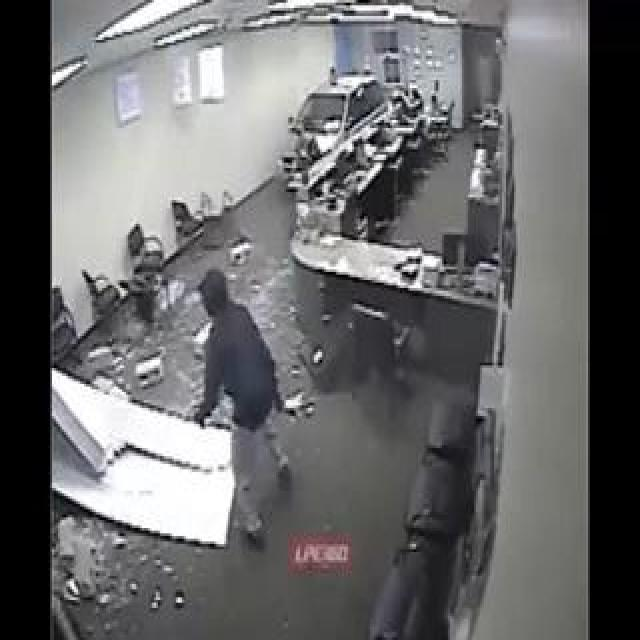thief: (172, 278, 260, 362), (280, 111, 348, 187)
